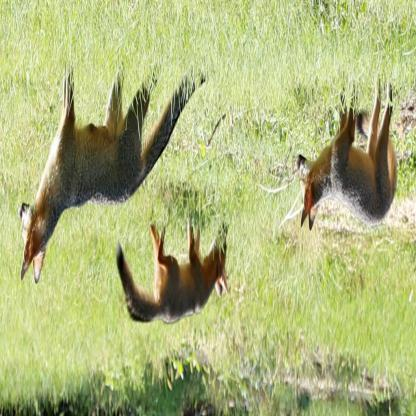zorro: (16, 43, 210, 286), (297, 81, 407, 238), (115, 209, 234, 329)
